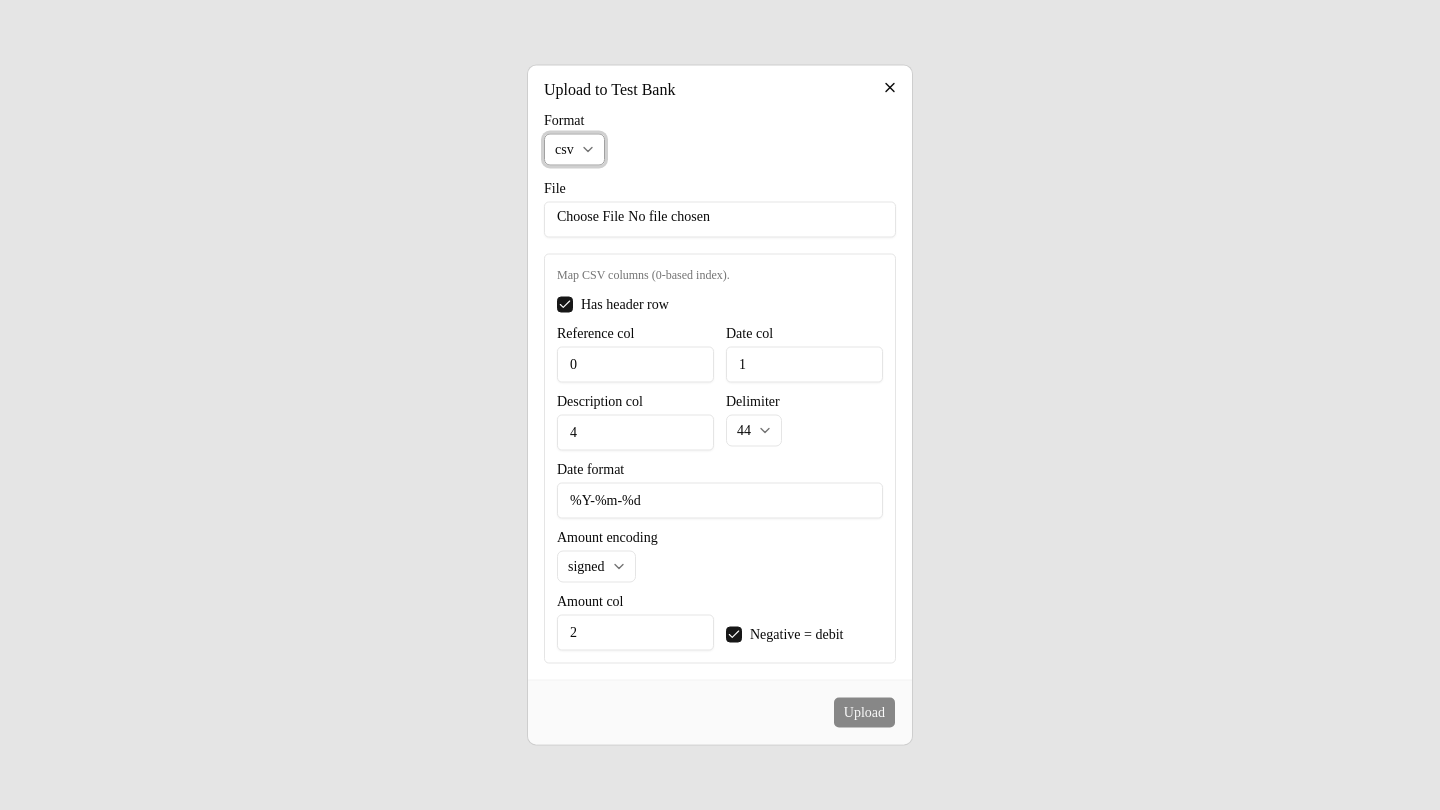
UploadDialog › shows Auto-detect, MT940, and BAI2 in the format dropdown
The image size is (1440, 810).
# Open the Shadcn Select to surface the SelectItem options.
Click the dropdown named "format" at (574, 150), box [544,134,605,166]
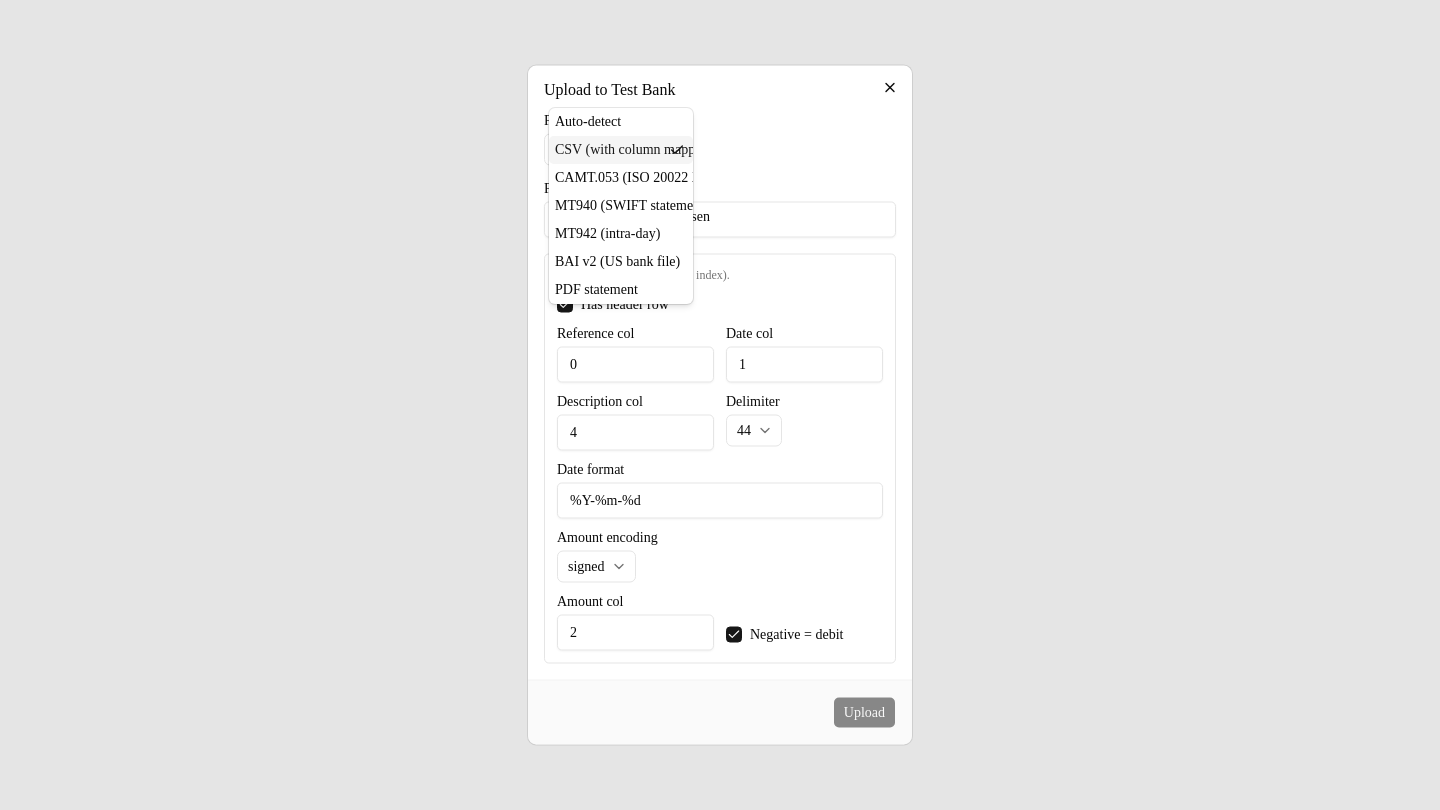
Result: the option "Auto-detect" is shown at [555,114,621,128]
Result: the option "CSV (with column mapping)" is shown at [549,136,693,164]
Result: the option "CAMT.053 (ISO 20022 XML)" is shown at [555,170,693,184]
